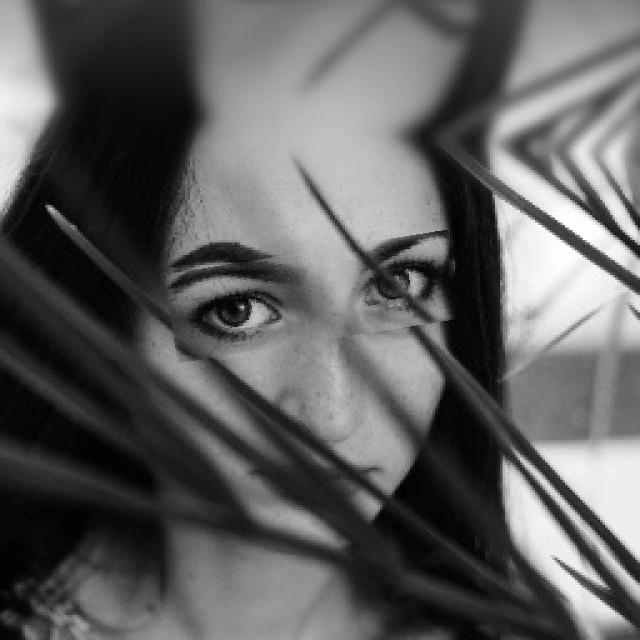no-glasses: (166, 242, 459, 352)
